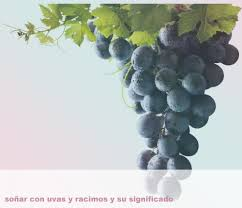Black grapes: (92, 7, 237, 202)
